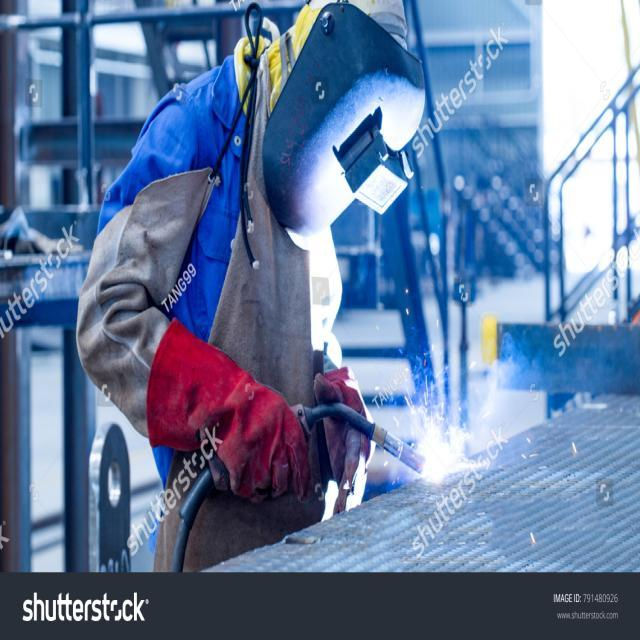with_helmet: (184, 0, 428, 234)
